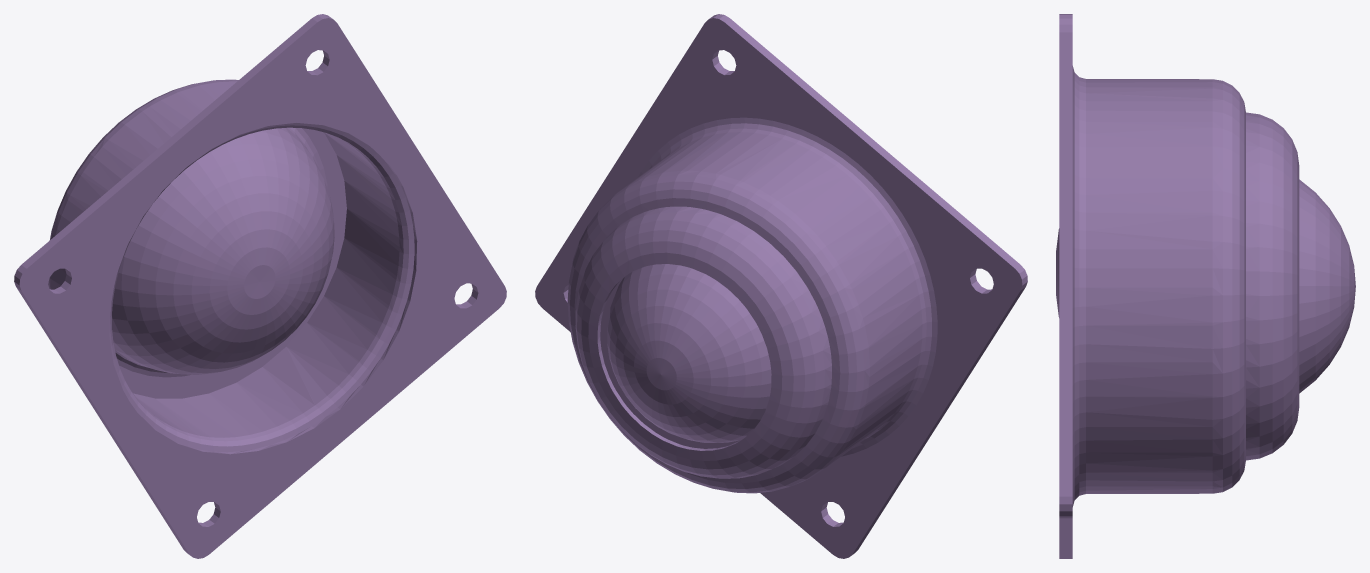
Rendered from caster_front_left_link.glb.
3 views of the same model, side by side, from view 1: azimuth 30°, elevation 25°; view 2: azimuth 150°, elevation 25°; view 3: azimuth 270°, elevation 25° (orthographic). The views are drawn at different scales.
Size of the model in its own units: 0.1016 by 0.1016 by 0.045.
